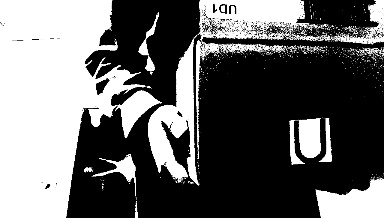U: (289, 117, 332, 161)
